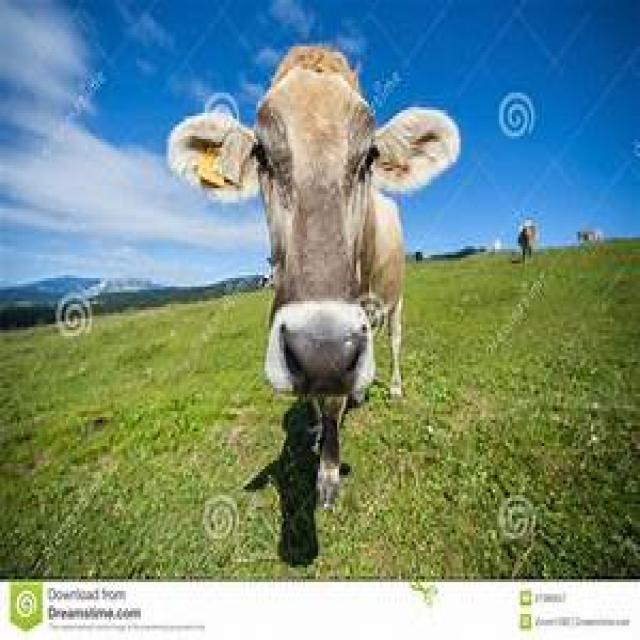animal: (167, 45, 457, 500)
